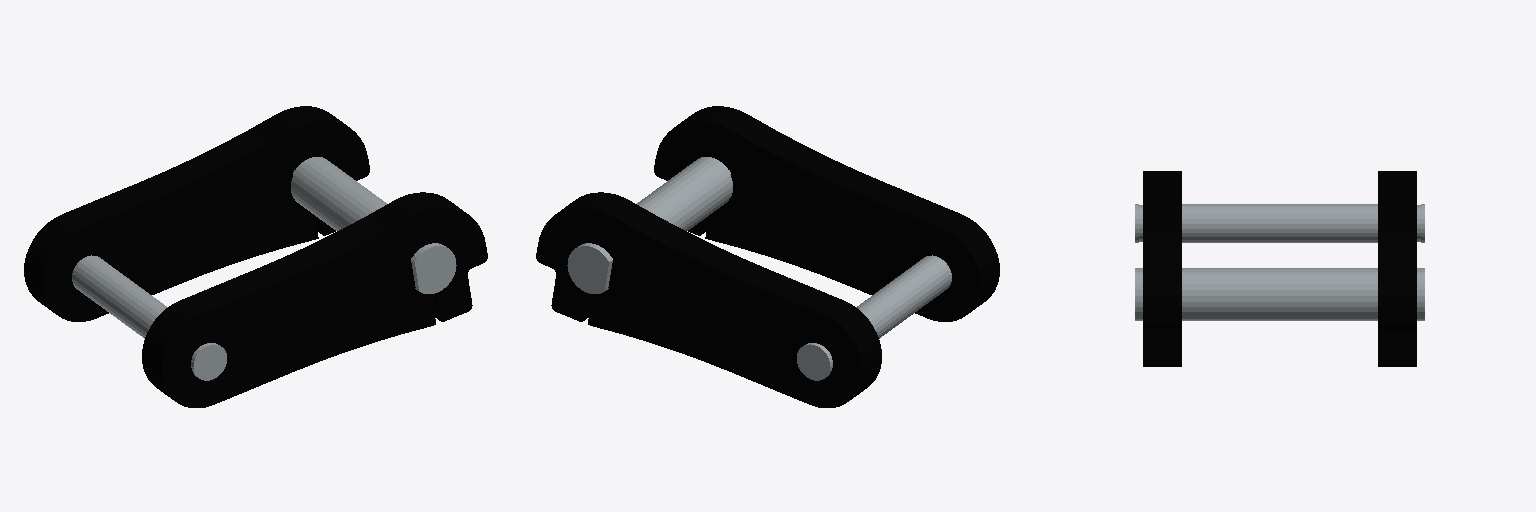
Rendered from robotiq_85_gripper_joint_0_R.obj.
3 views of the same model, side by side, from view 1: azimuth 30°, elevation 25°; view 2: azimuth 150°, elevation 25°; view 3: azimuth 270°, elevation 25° (orthographic).
Visible parts, largest first — view 1: Actor0_ActorShape0_0-Mesh.004; view 2: Actor0_ActorShape0_0-Mesh.004; view 3: Actor0_ActorShape0_0-Mesh.004.
Part boxes in pixels (left/top/right/bottom): Actor0_ActorShape0_0-Mesh.004: left=24, top=106, right=487, bottom=407; Actor0_ActorShape0_0-Mesh.004: left=536, top=106, right=999, bottom=407; Actor0_ActorShape0_0-Mesh.004: left=1135, top=171, right=1424, bottom=366.
Size of the model in its own units: 0.0458 by 0.0194 by 0.0352.